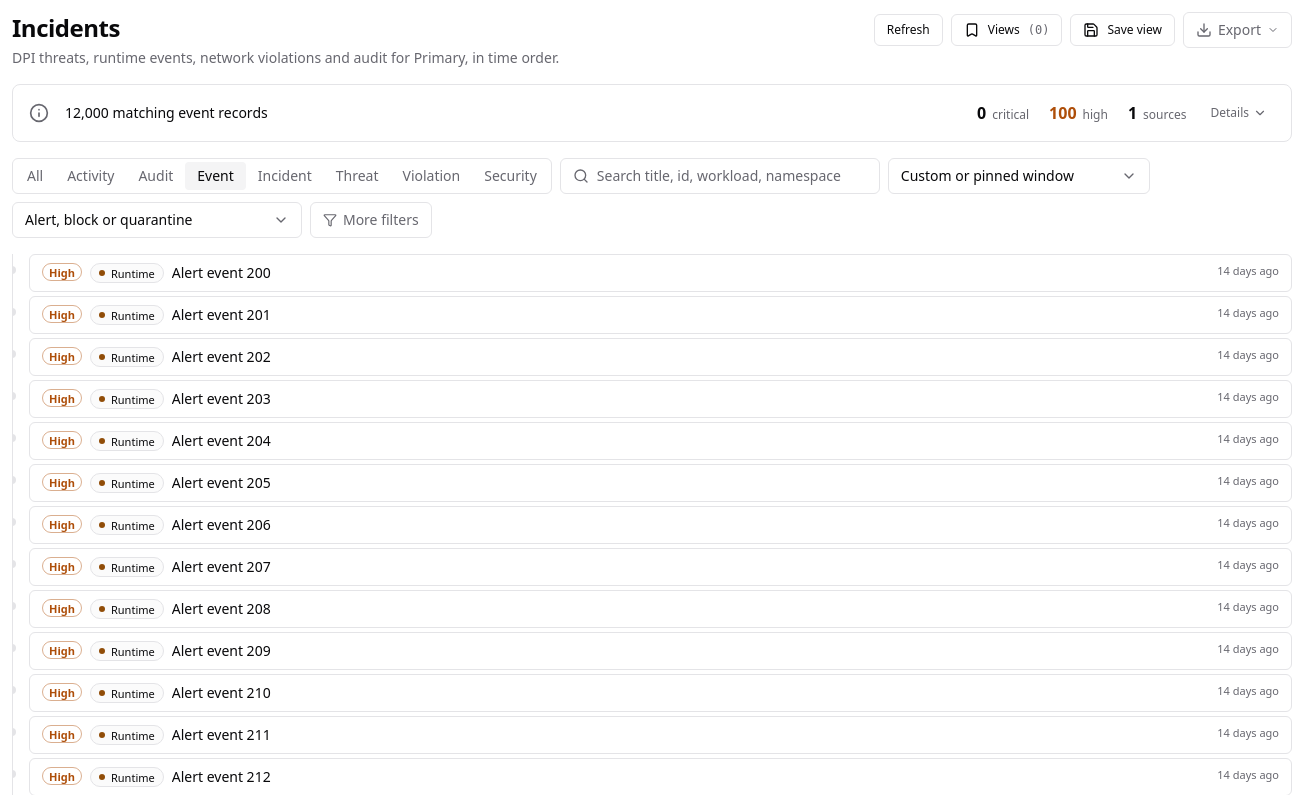
reports full matching export caps and errors, and blocks duplicate requests while downloading
Press Enter in the button "Export", box x1=1183 y1=12 x2=1292 y2=48
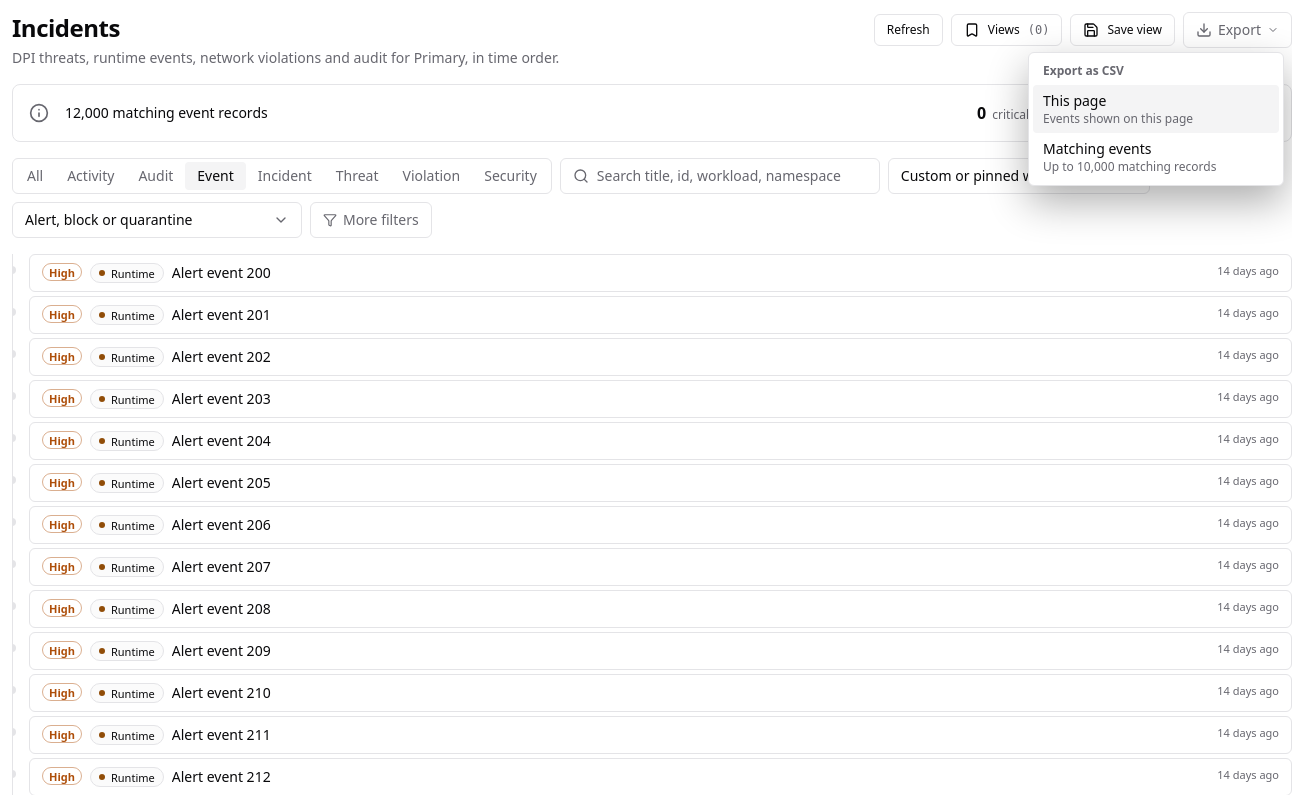
Click the menu item "Matching events Up to 10,000 matching records": (1130, 157) x1=1043 y1=139 x2=1216 y2=175
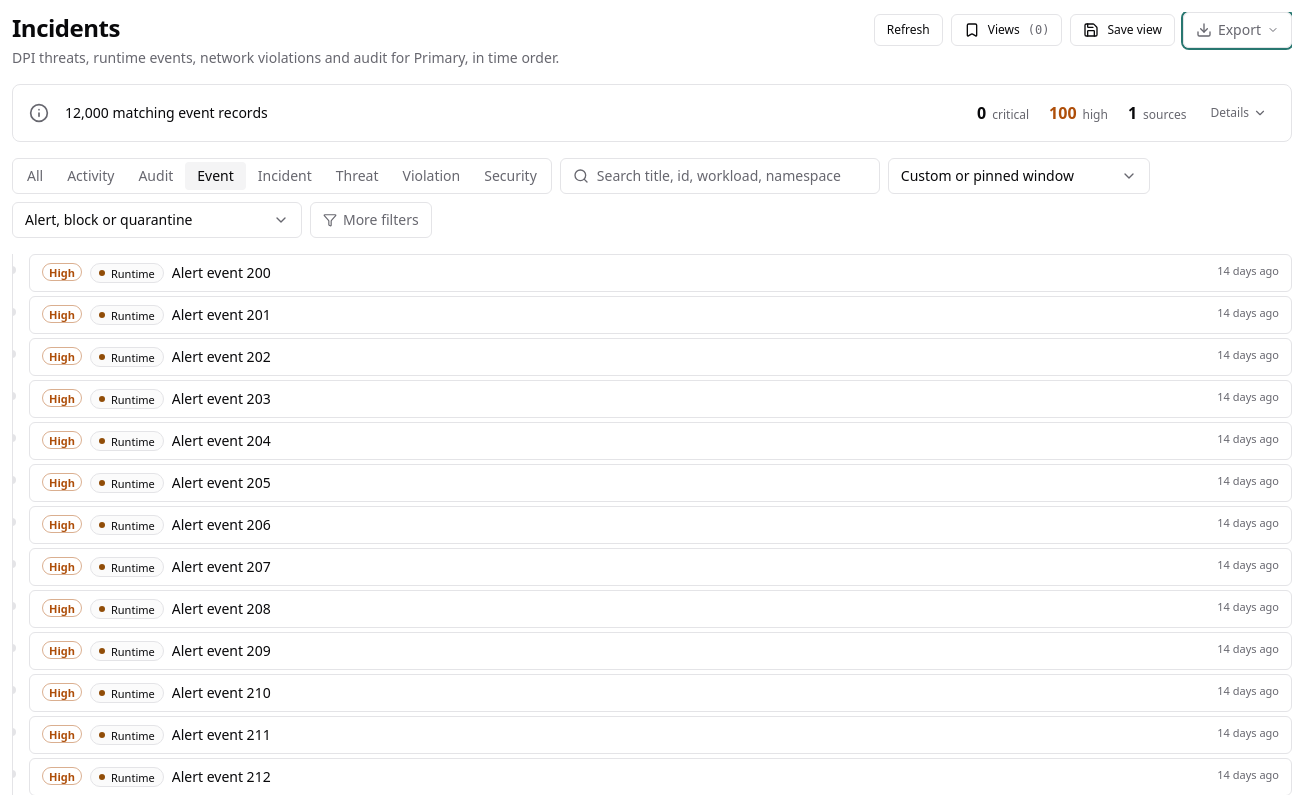
Press Enter in the button "Export", box x1=1183 y1=12 x2=1292 y2=48
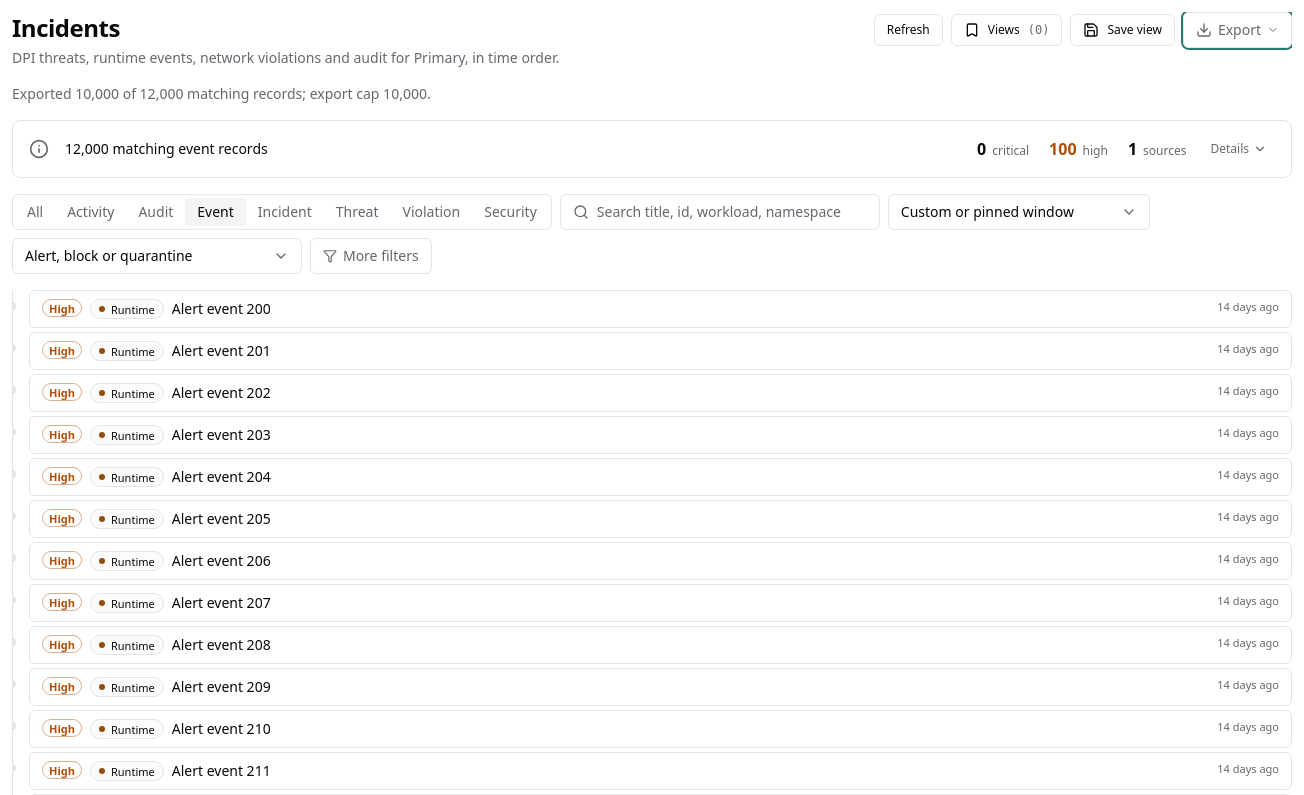
Result: the text "Exported 10,000 of 12,000 matching records" is shown at x1=12 y1=84 x2=431 y2=103
Press Enter in the button "Export", box x1=1183 y1=12 x2=1292 y2=48
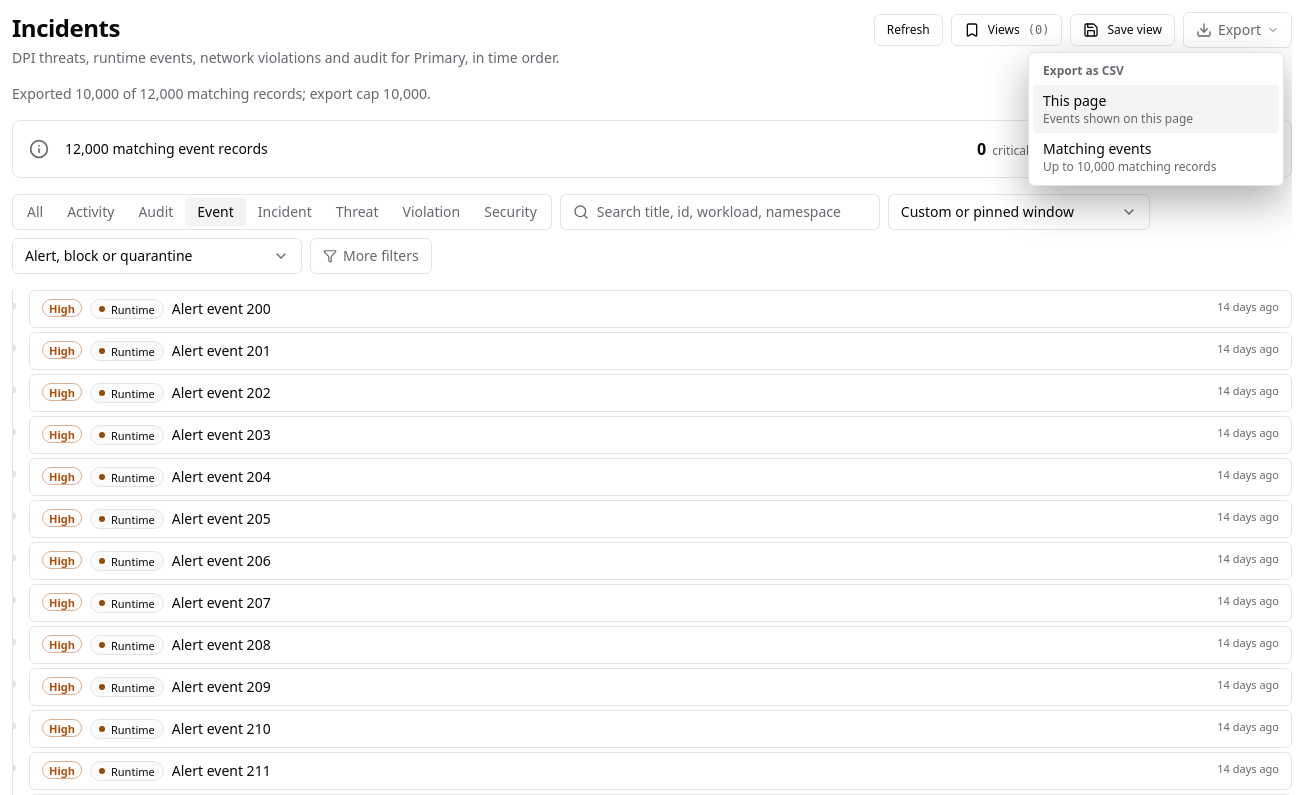
Click the menu item "Matching events Up to 10,000 matching records": (1130, 157) x1=1043 y1=139 x2=1216 y2=175
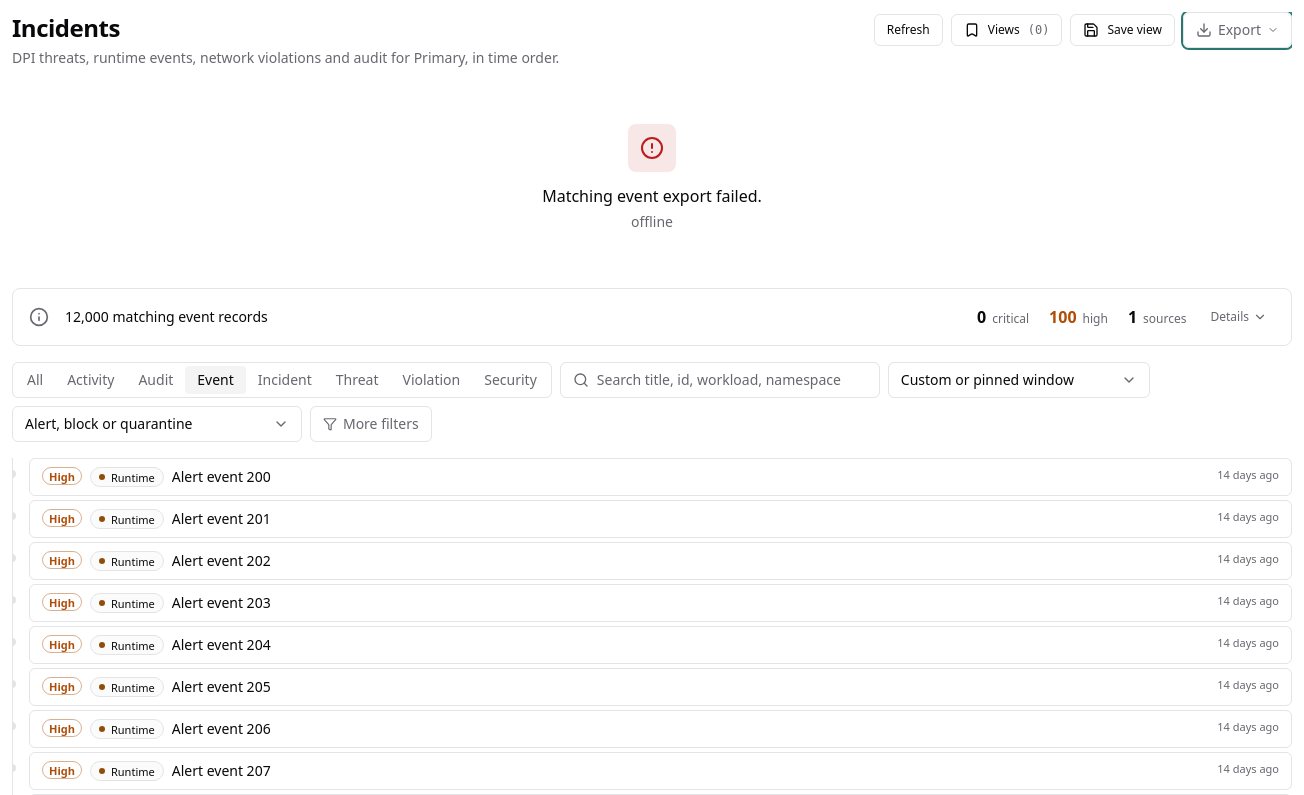
Result: the text "Matching event export failed" is shown at x1=542 y1=185 x2=762 y2=207
Result: the text "offline" is shown at x1=631 y1=212 x2=673 y2=231
